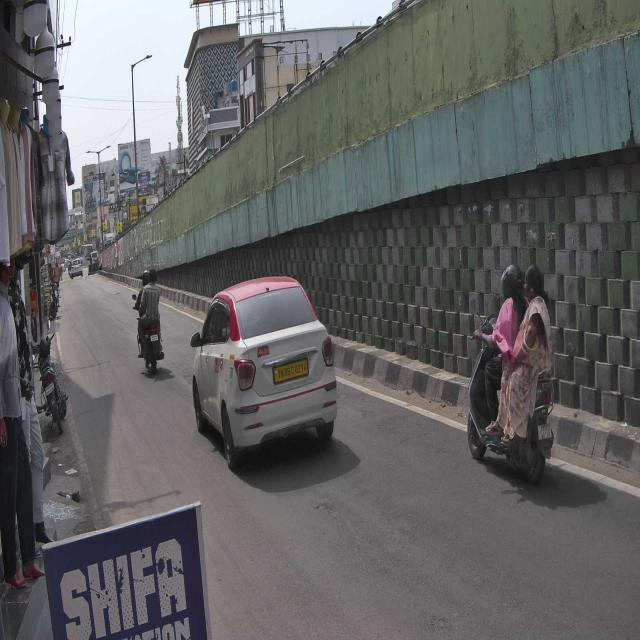double_rider: (465, 259, 554, 481)
